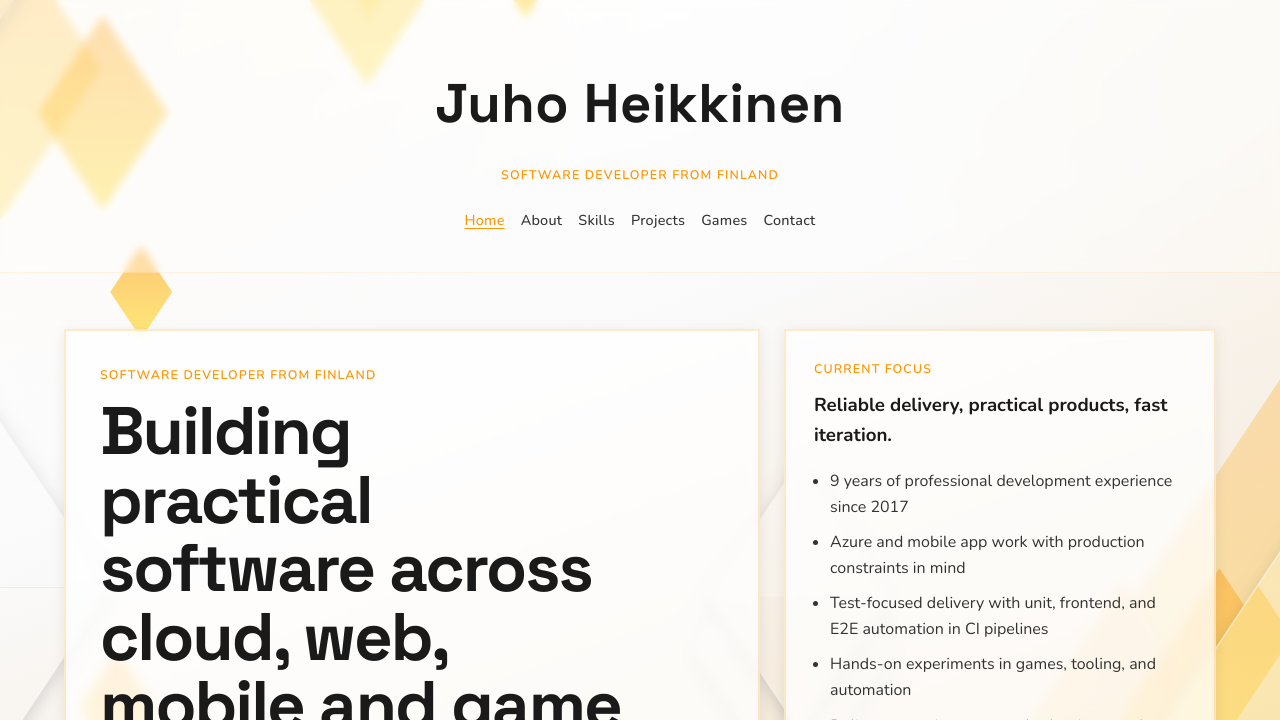
Test: App Component › navigates to contact page from nav link
Click the link "Contact" at {"x": 790, "y": 220}, box [764,209,816,232]
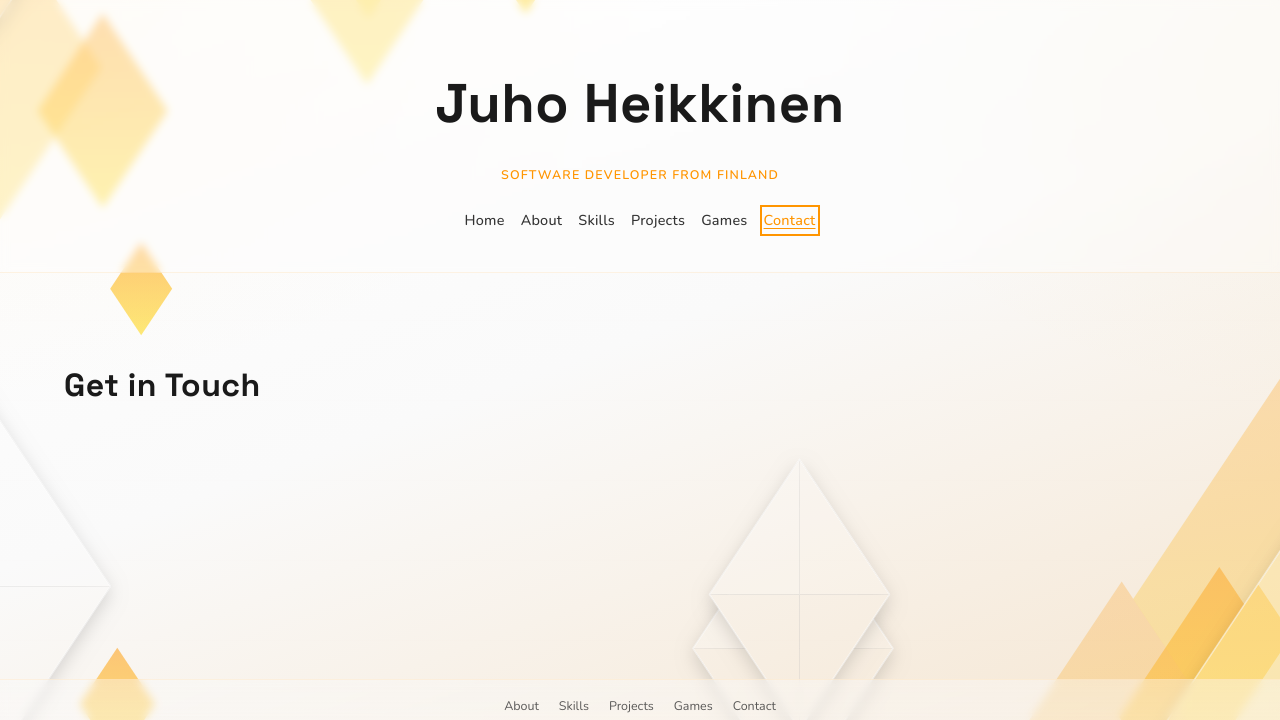
Expected: the heading "Get in Touch" is shown, [64,365,261,405]
